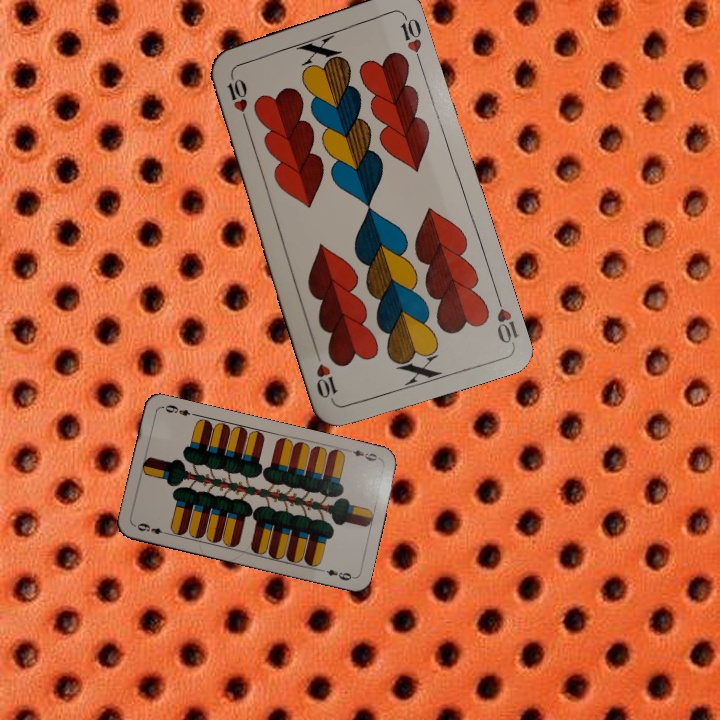E9: (343, 445, 383, 464), (133, 519, 171, 538)
H10: (491, 289, 520, 347), (223, 69, 251, 127)
